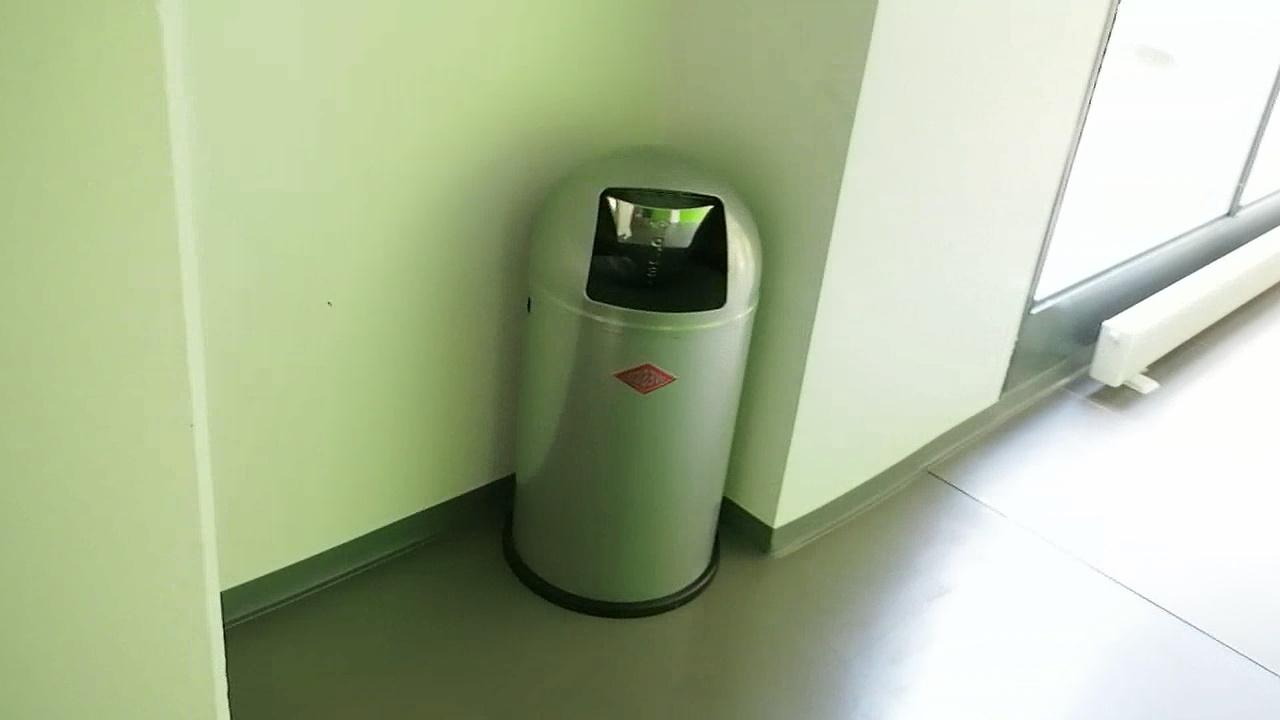trashbin: (504, 183, 751, 613)
